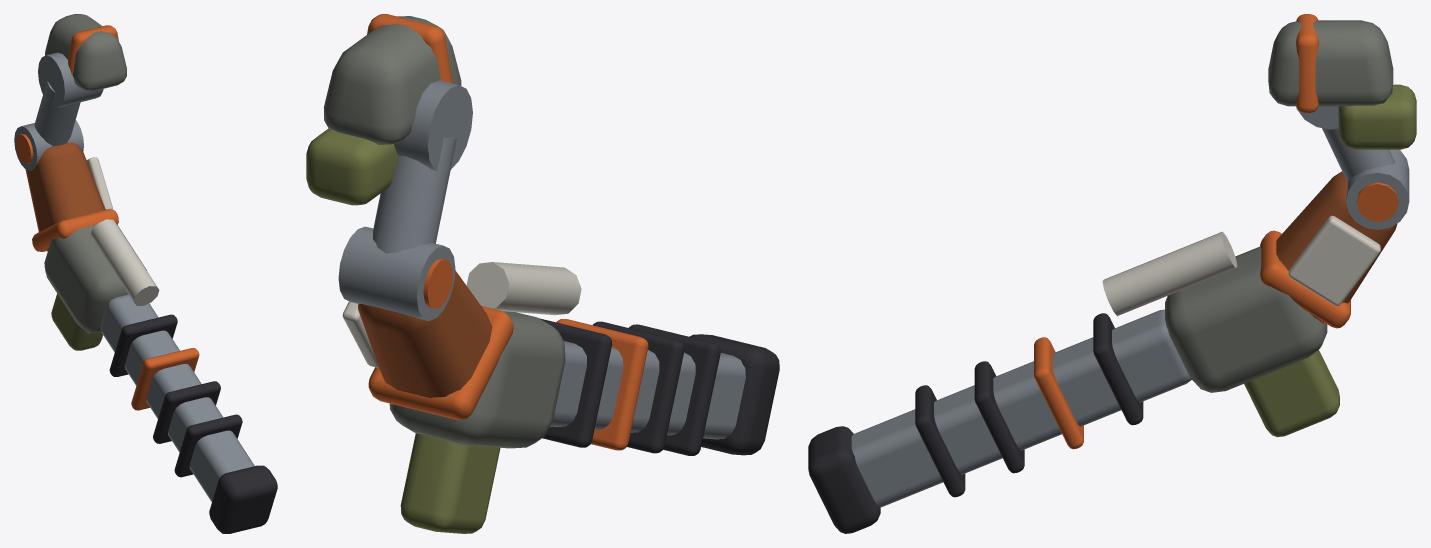
Rendered from ar_railgun.glb.
3 renders of one model, left to right at view 1: azimuth 30°, elevation 25°; view 2: azimuth 150°, elevation 25°; view 3: azimuth 270°, elevation 25°, orthographic. The views are drawn at different scales.
Visible parts, largest first — view 1: ar_railgun; view 2: ar_railgun; view 3: ar_railgun.
Part boxes in pixels (x1,y1,x2,y2): ar_railgun: (14,14,277,533); ar_railgun: (306,14,779,533); ar_railgun: (808,14,1416,533).
Size of the model in its own units: 0.1382 by 0.6204 by 0.6701.
